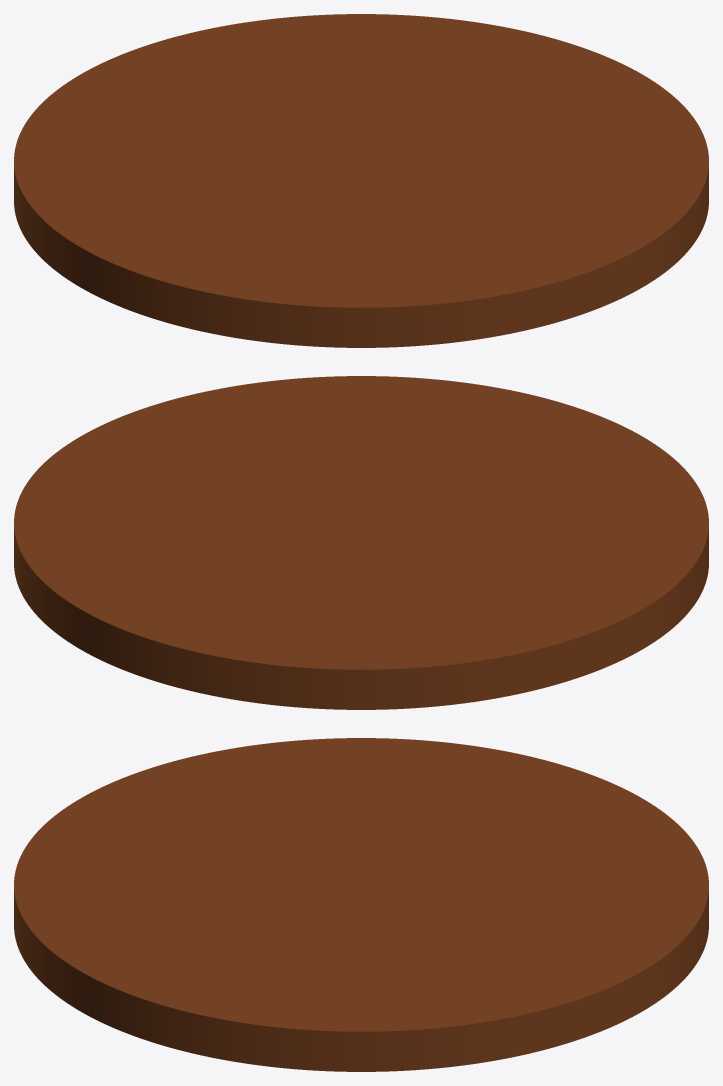
The model's file is model_UNFINISHED.obj.
3 views of the same model, one above another, from view 1: azimuth 30°, elevation 25°; view 2: azimuth 150°, elevation 25°; view 3: azimuth 270°, elevation 25° (orthographic).
Parts seen in each view (by area): view 1: JPY10_1959_SMOOTH; view 2: JPY10_1959_SMOOTH; view 3: JPY10_1959_SMOOTH.
Boxes of the visible parts, left/top/right/bottom form: JPY10_1959_SMOOTH: left=14, top=14, right=708, bottom=347; JPY10_1959_SMOOTH: left=14, top=376, right=708, bottom=709; JPY10_1959_SMOOTH: left=14, top=738, right=708, bottom=1071.
Bounding box in the file's own units: 0.0235 × 0.0015 × 0.0235.
